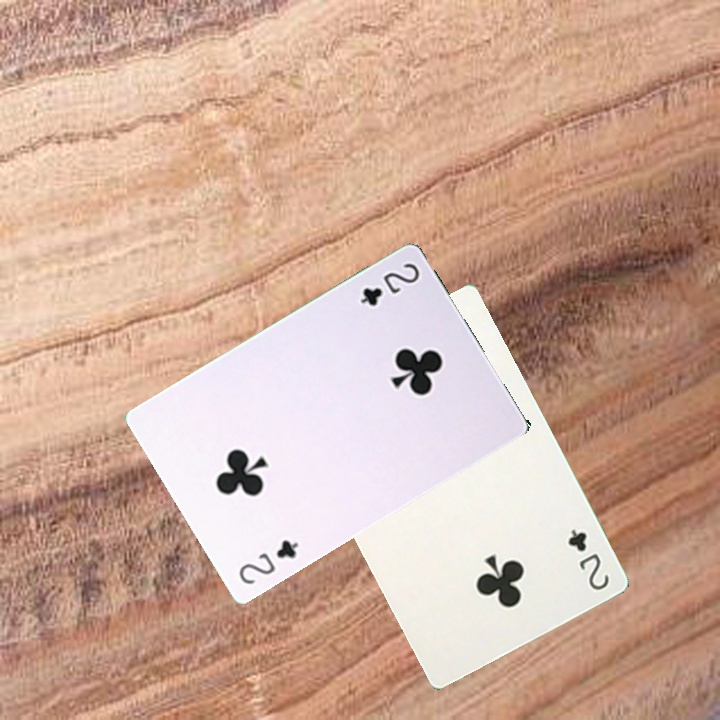2c: (234, 535, 301, 587), (356, 258, 423, 309), (563, 525, 612, 593)
